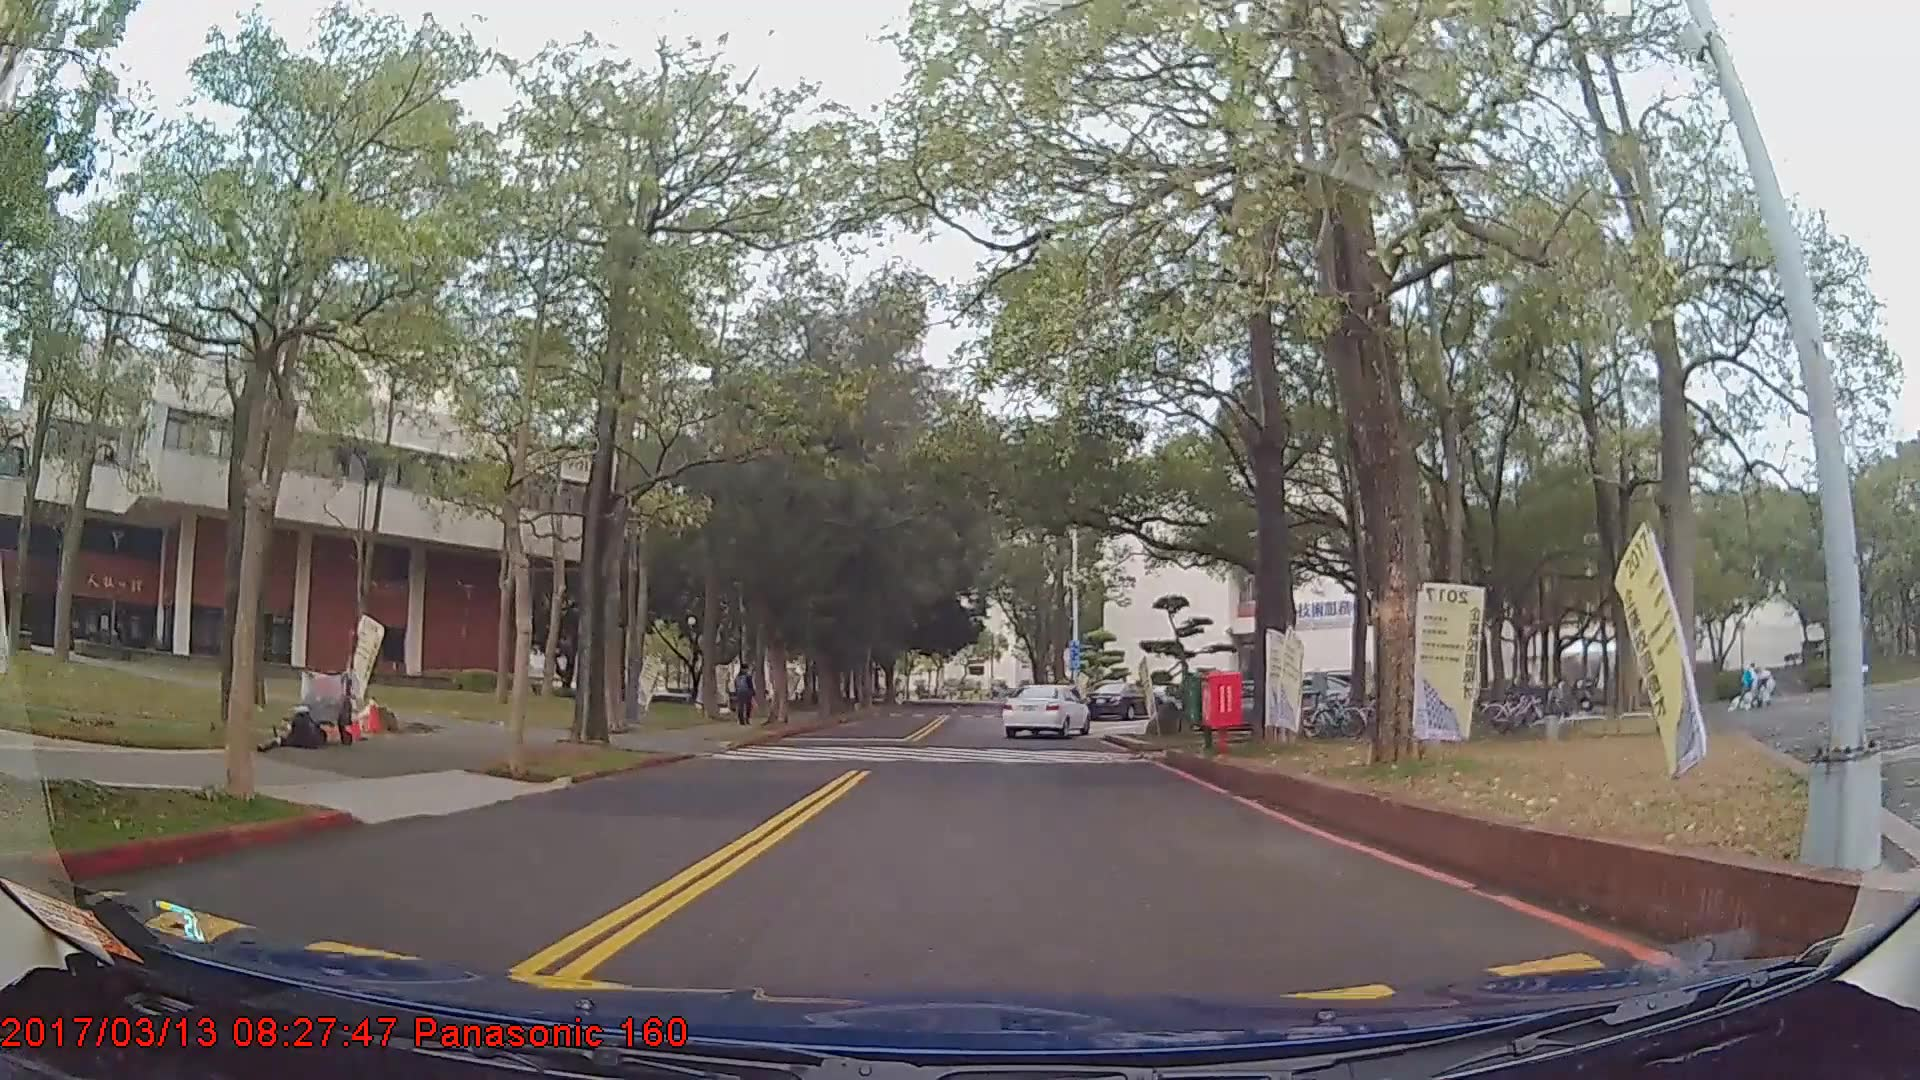pedestrian: (734, 666, 759, 728)
vehicle: (1001, 682, 1090, 739), (1083, 679, 1162, 720)
